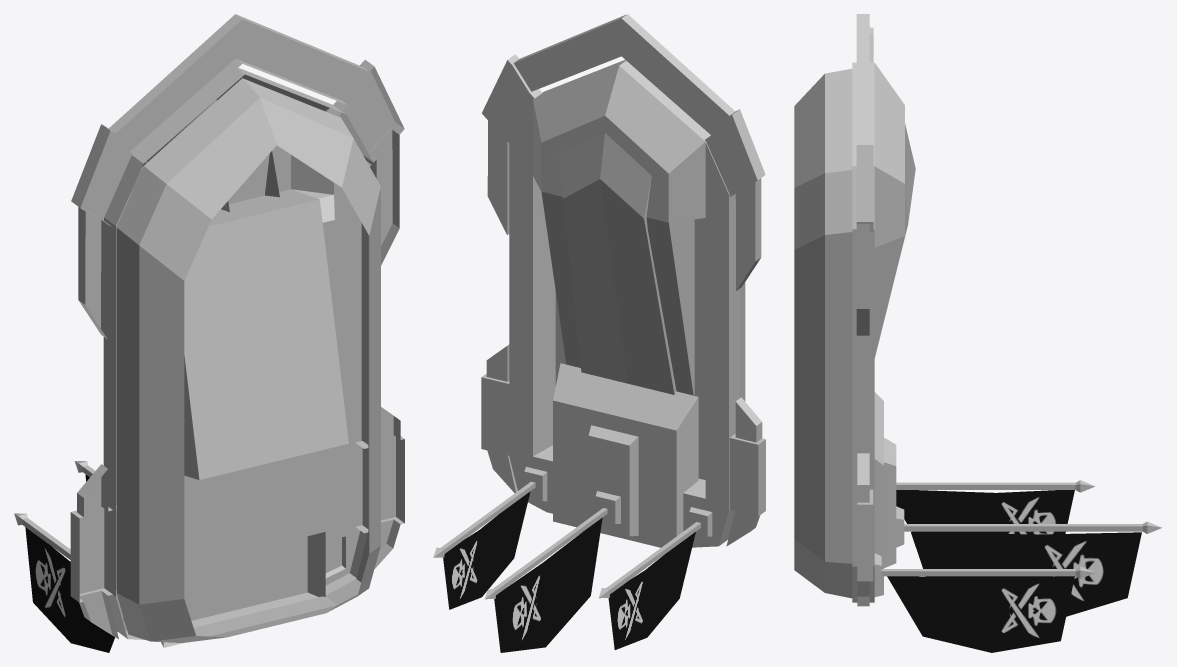
Rendered from pirate_guide_my_ship_8.fbx.
The picture shows the model from 3 angles, left to right: view 1: azimuth 30°, elevation 25°; view 2: azimuth 150°, elevation 25°; view 3: azimuth 270°, elevation 25°; orthographic projection. The views are drawn at different scales.
Parts seen in each view (by area): view 1: Cube.411; view 2: Cube.411; view 3: Cube.411.
Boxes of the visible parts, x1,y1,x2,y2 form: Cube.411: [14, 14, 404, 652]; Cube.411: [433, 14, 765, 652]; Cube.411: [794, 14, 1162, 652].
Bounding box in the file's own units: 386 × 763 × 415.
